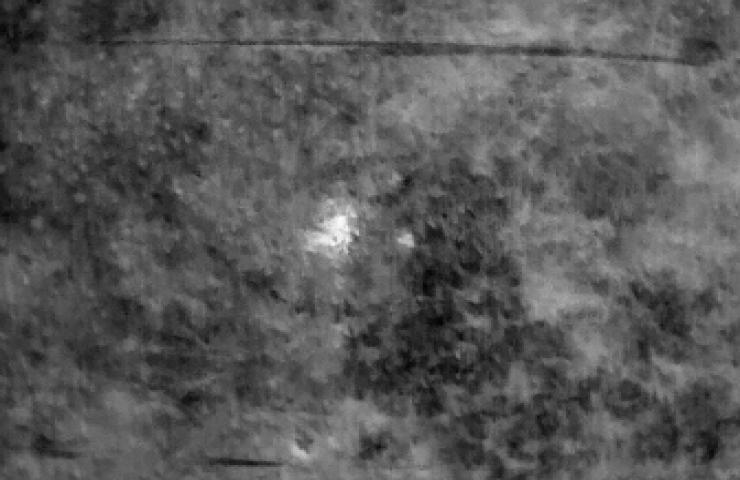landmines: (305, 206, 361, 261)
